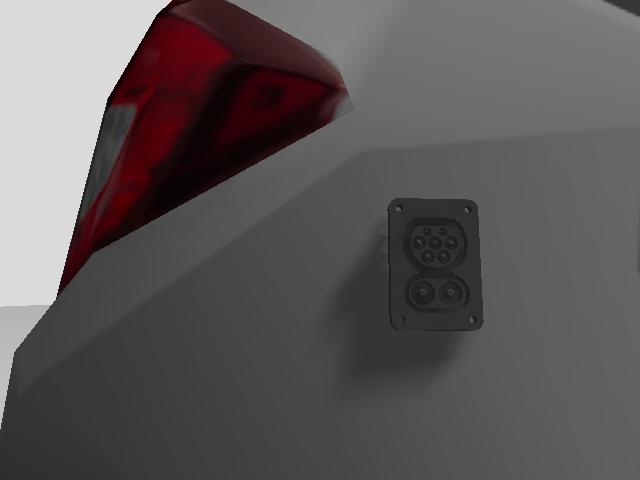EV-socket: (388, 198, 483, 330)
